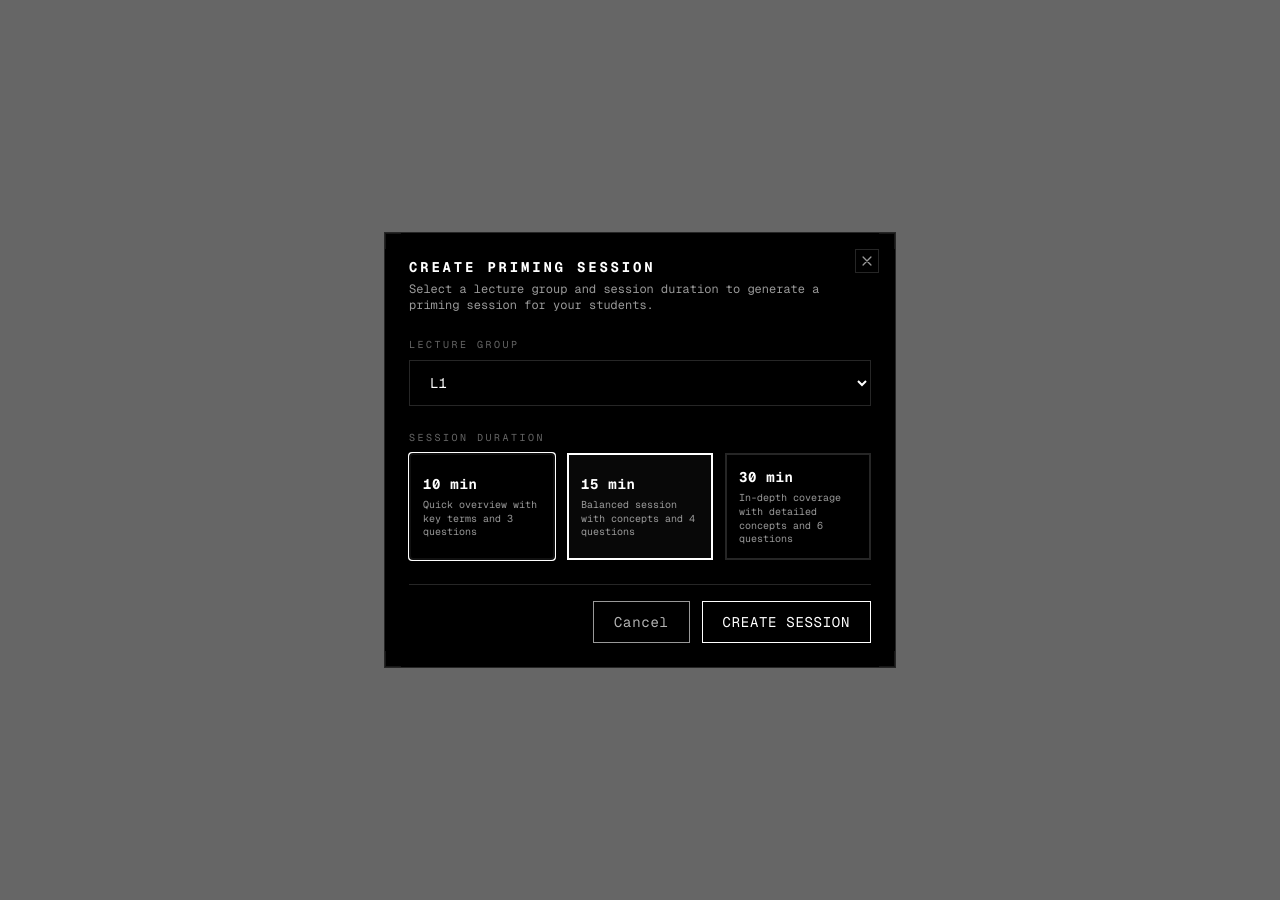
CreateSessionModal › shows 'Creating...' during submission
The image size is (1280, 900).
Select "L1" in the dropdown at [640, 383], box [409, 360, 871, 406]
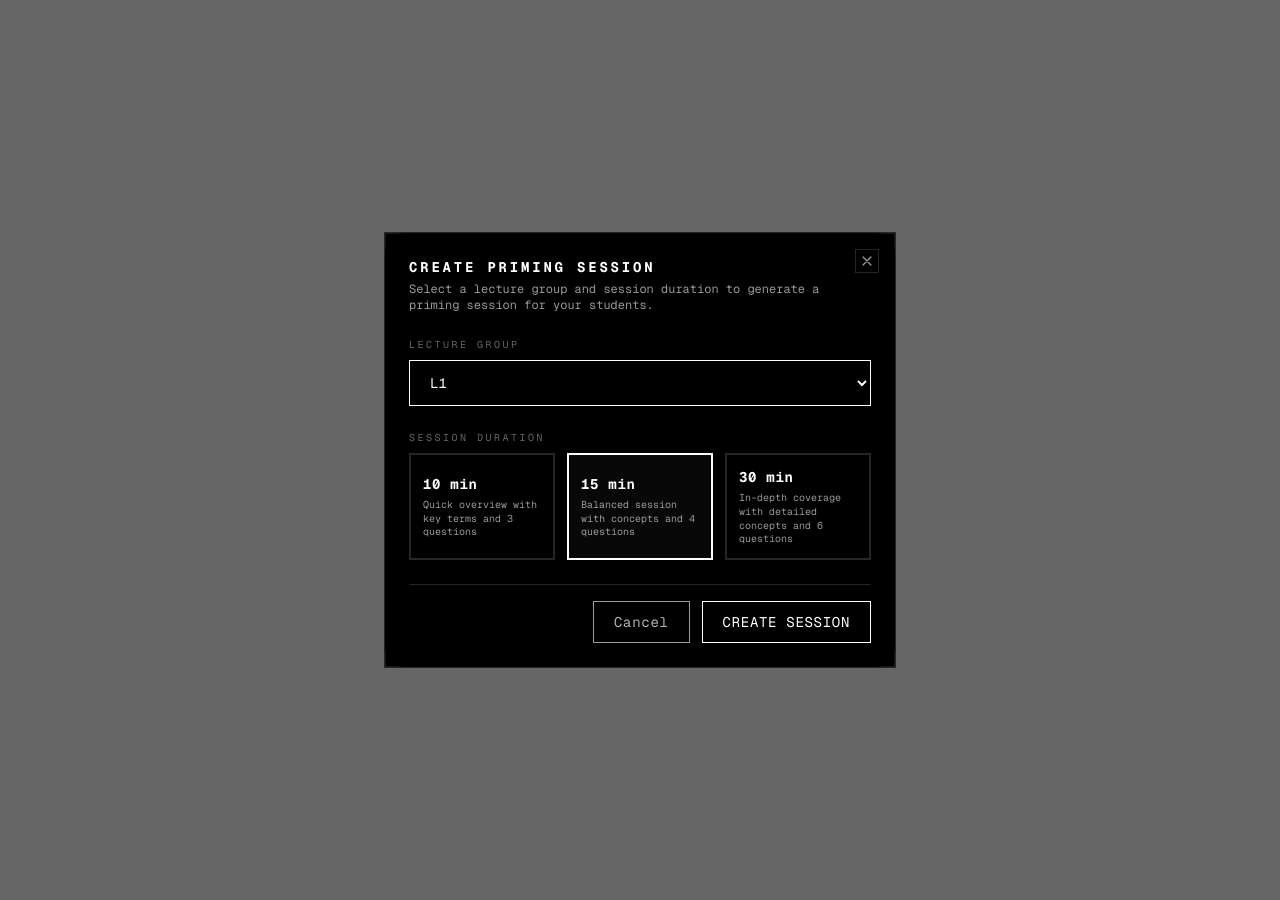
Click the button "CREATE SESSION" at [786, 622], box [702, 601, 871, 643]
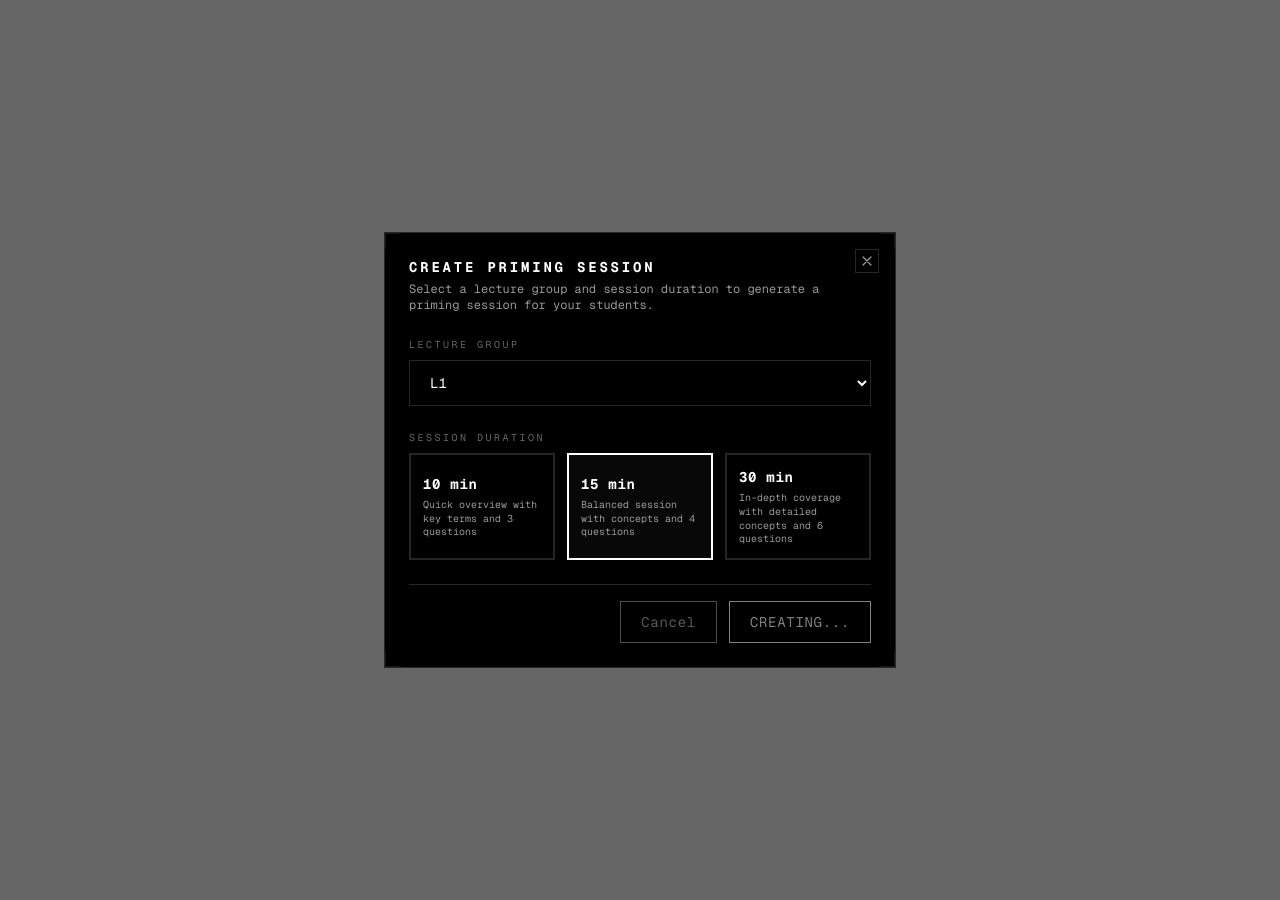
Result: the text "CREATING..." is shown at [750, 612, 850, 632]
